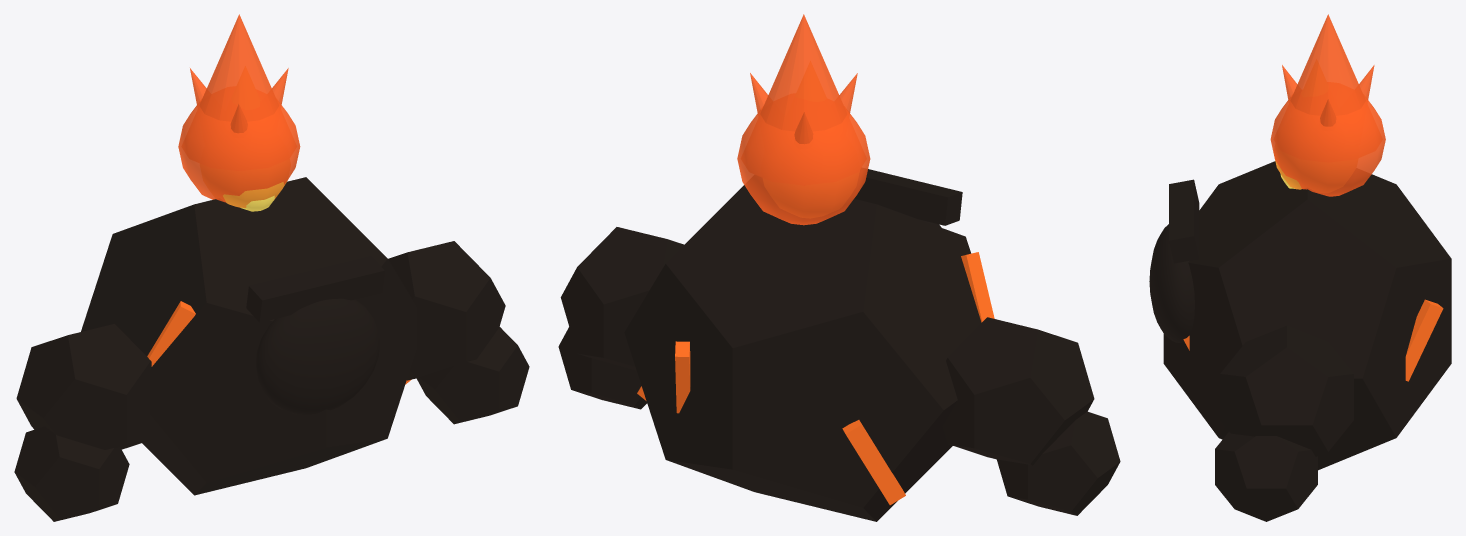
The model's file is magmarocha.glb.
The picture shows the model from 3 angles, left to right: view 1: azimuth 30°, elevation 25°; view 2: azimuth 150°, elevation 25°; view 3: azimuth 270°, elevation 25°; orthographic projection. The views are drawn at different scales.
Parts seen in each view (by area): view 1: malha__contorno (×7), malha__semsombra (×4); view 2: malha__contorno (×6), malha__semsombra (×5); view 3: malha__contorno (×5), malha__semsombra (×3).
Part boxes in pixels (x1=…): malha__contorno (×7): x1=14, y1=177, x2=529, y2=521; malha__semsombra (×4): x1=147, y1=14, x2=300, y2=366; malha__contorno (×6): x1=558, y1=169, x2=1120, y2=521; malha__semsombra (×5): x1=675, y1=14, x2=994, y2=505; malha__contorno (×5): x1=1149, y1=161, x2=1451, y2=521; malha__semsombra (×3): x1=1270, y1=14, x2=1443, y2=381.
Bounding box in the file's own units: 1.89 × 1.68 × 1.06.
